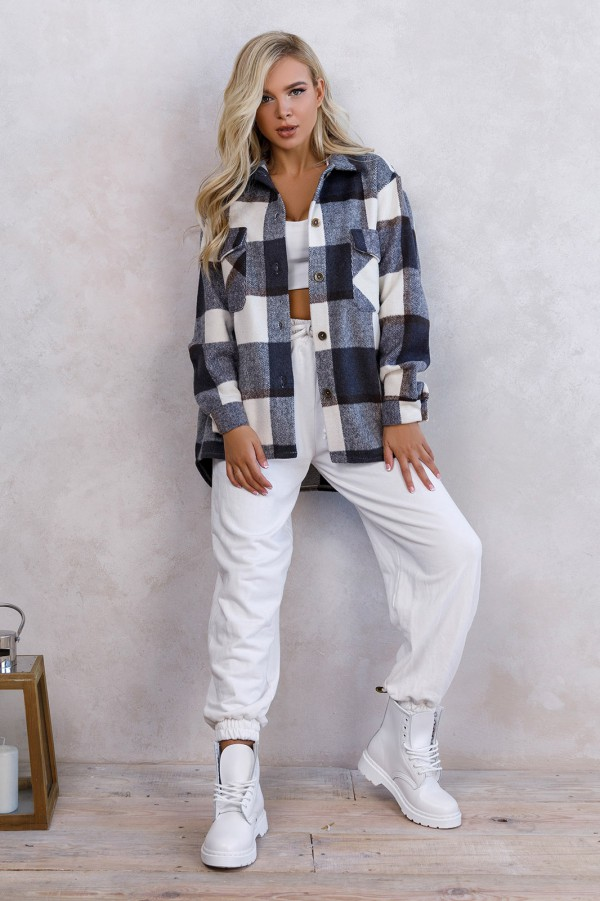squared: (177, 141, 441, 492)
